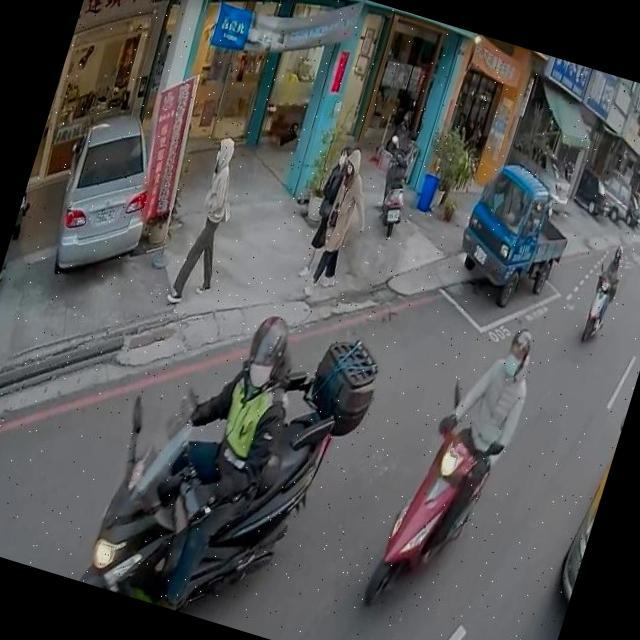person: (77, 280, 311, 624), (391, 310, 544, 584), (159, 126, 259, 314), (300, 146, 378, 294), (296, 138, 370, 288), (578, 236, 630, 342)
